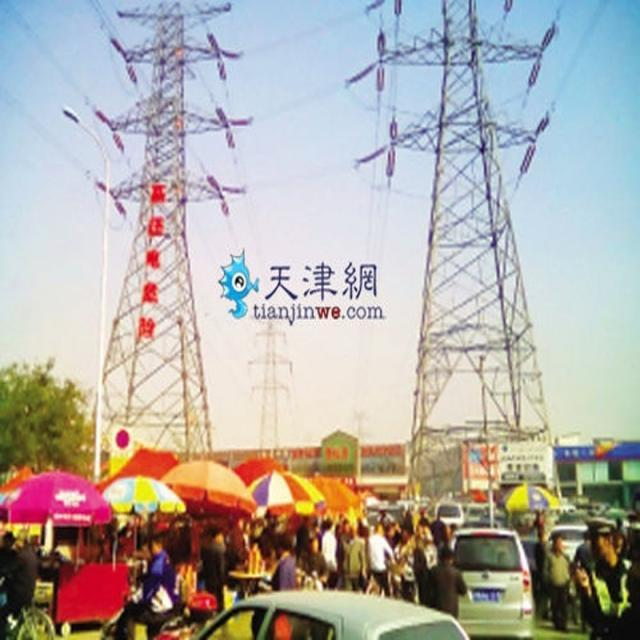non-critical vegetation: (377, 21, 572, 474), (76, 8, 226, 447)
